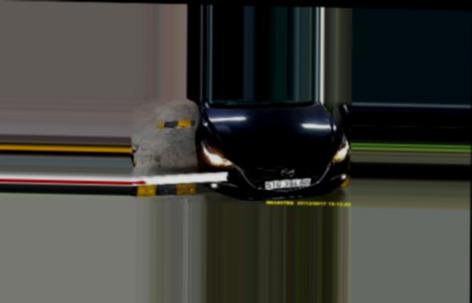License_Plate: (263, 176, 313, 190)
